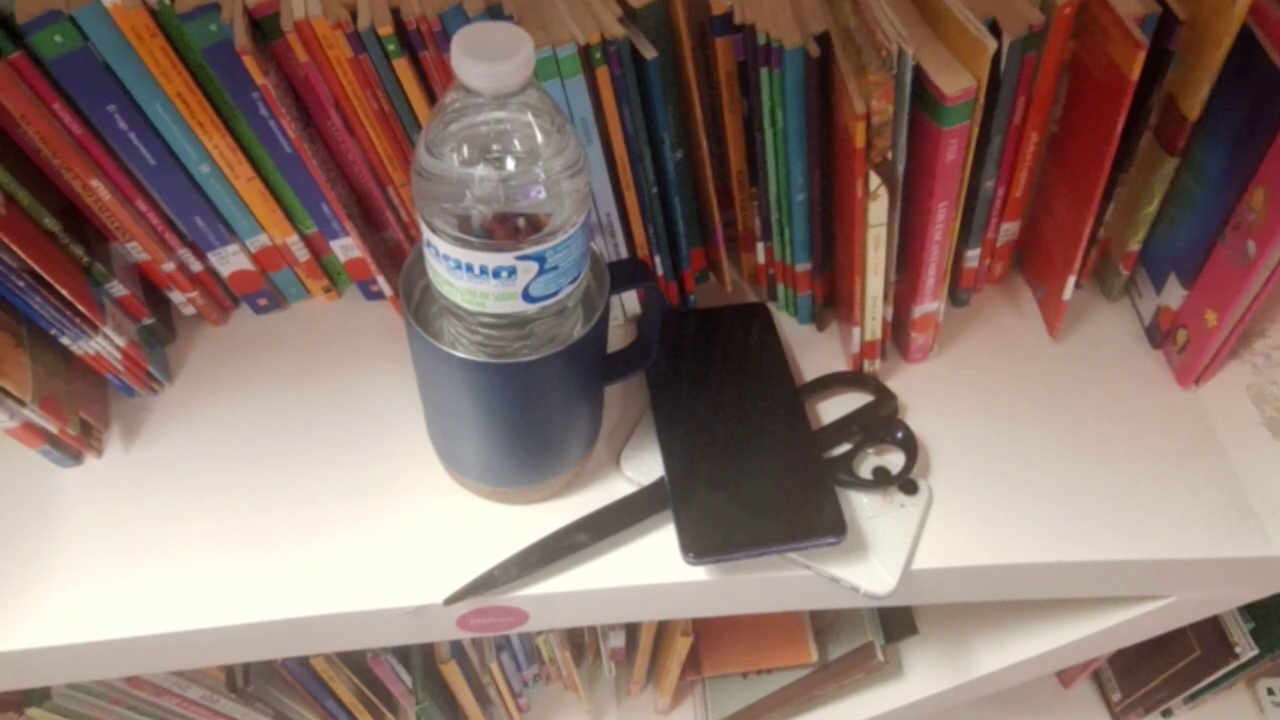botella: (402, 18, 621, 506)
